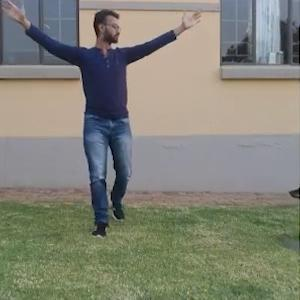takeoff: (8, 5, 206, 228)
